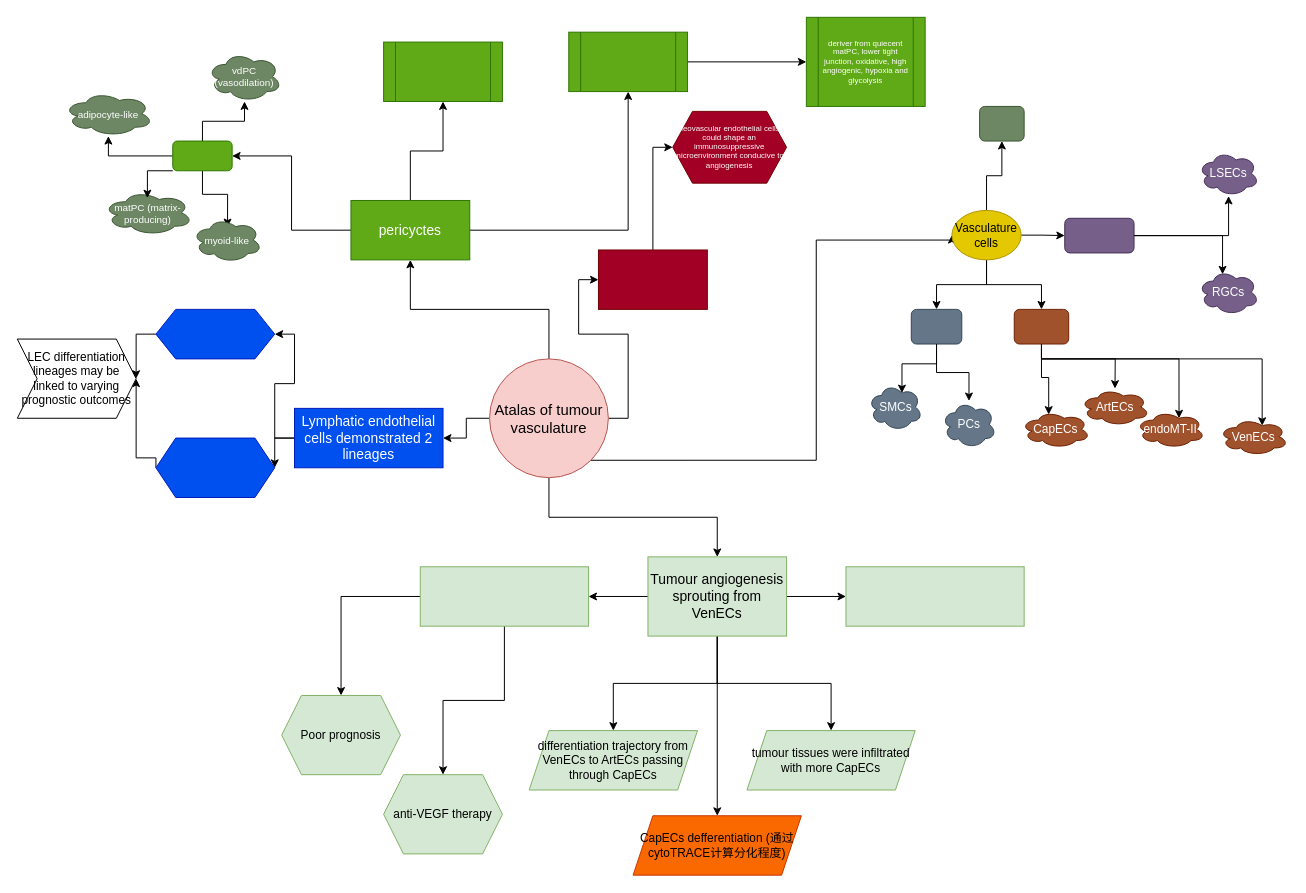
The diagram is 1306 pixels wide and 893 high, and some of its shapes have lost their labels. The shapes that lost their labels are listed below. From the top down, each one's centre as x and y in pixels, then its label:
At [442,71]: "endoplasmic reticulum stress".
At [628,61]: "BASP1+ matrix-producing perictyes".
At [1001,123]: "LEC".
At [202,155]: "Subtypes (lower purity)".
At [1099,235]: "Tissue-specific ECs".
At [652,279]: "intercellular communication analysis".
At [215,333]: "lymphangiogenesis".
At [936,326]: "MCs".
At [1041,326]: "VECs".
At [215,467]: "antigen presentation".
At [504,596]: "APLN+ TipSI->TipSIII Nothch signalling increased".
At [934,596]: "tip ->stalk cells, high chemokine expr, TEK (Tie2)".
